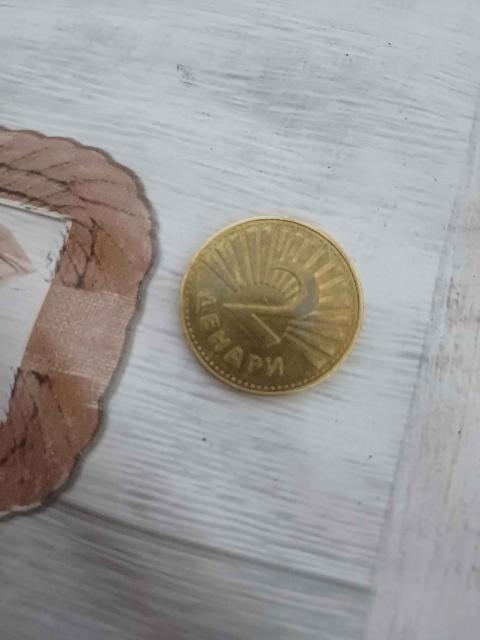2_coin: (181, 217, 362, 394)
